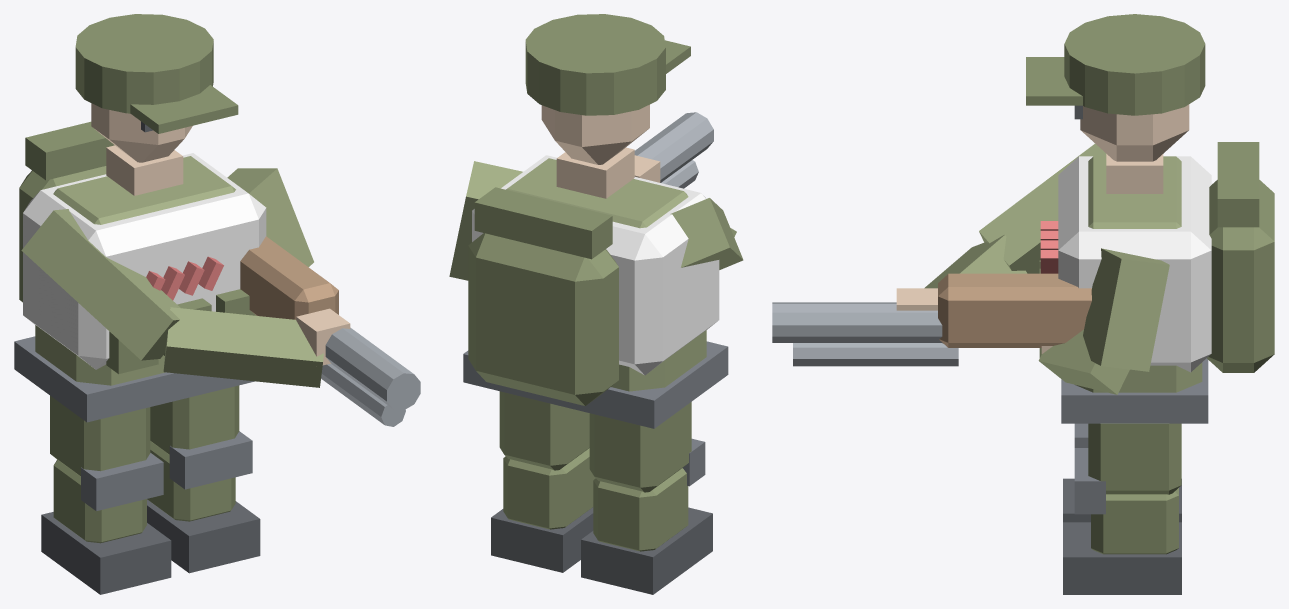
Rendered from shotgun.glb.
3 renders of one model, left to right at view 1: azimuth 30°, elevation 25°; view 2: azimuth 150°, elevation 25°; view 3: azimuth 270°, elevation 25°, orthographic.
Visible parts, largest first — view 1: main, shinl, shinr, legl, legr; view 2: main, shinl, shinr, legl, legr; view 3: main, shinr, legr, shinl.
Part boxes in pixels (x1,y1,x2,y2): main: (14,14,420,426); shinl: (41,453,171,594); shinr: (147,431,260,573); legl: (50,396,150,476); legr: (150,385,239,454); main: (449,14,743,428); shinl: (581,438,712,594); shinr: (491,448,595,572); legl: (589,402,691,492); legr: (499,391,589,470); main: (772,14,1274,423); shinr: (1063,448,1181,594); legr: (1088,423,1181,494); shinl: (1063,423,1181,522).
Size of the model in its own units: 0.3161 by 0.545 by 0.485.
